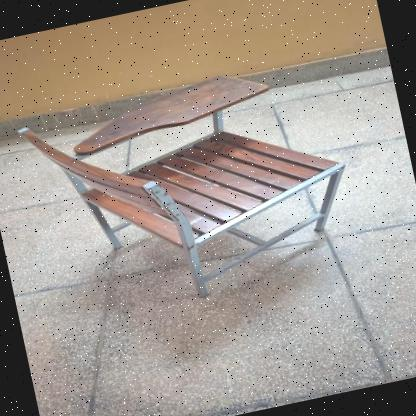chair: (10, 44, 382, 328)
